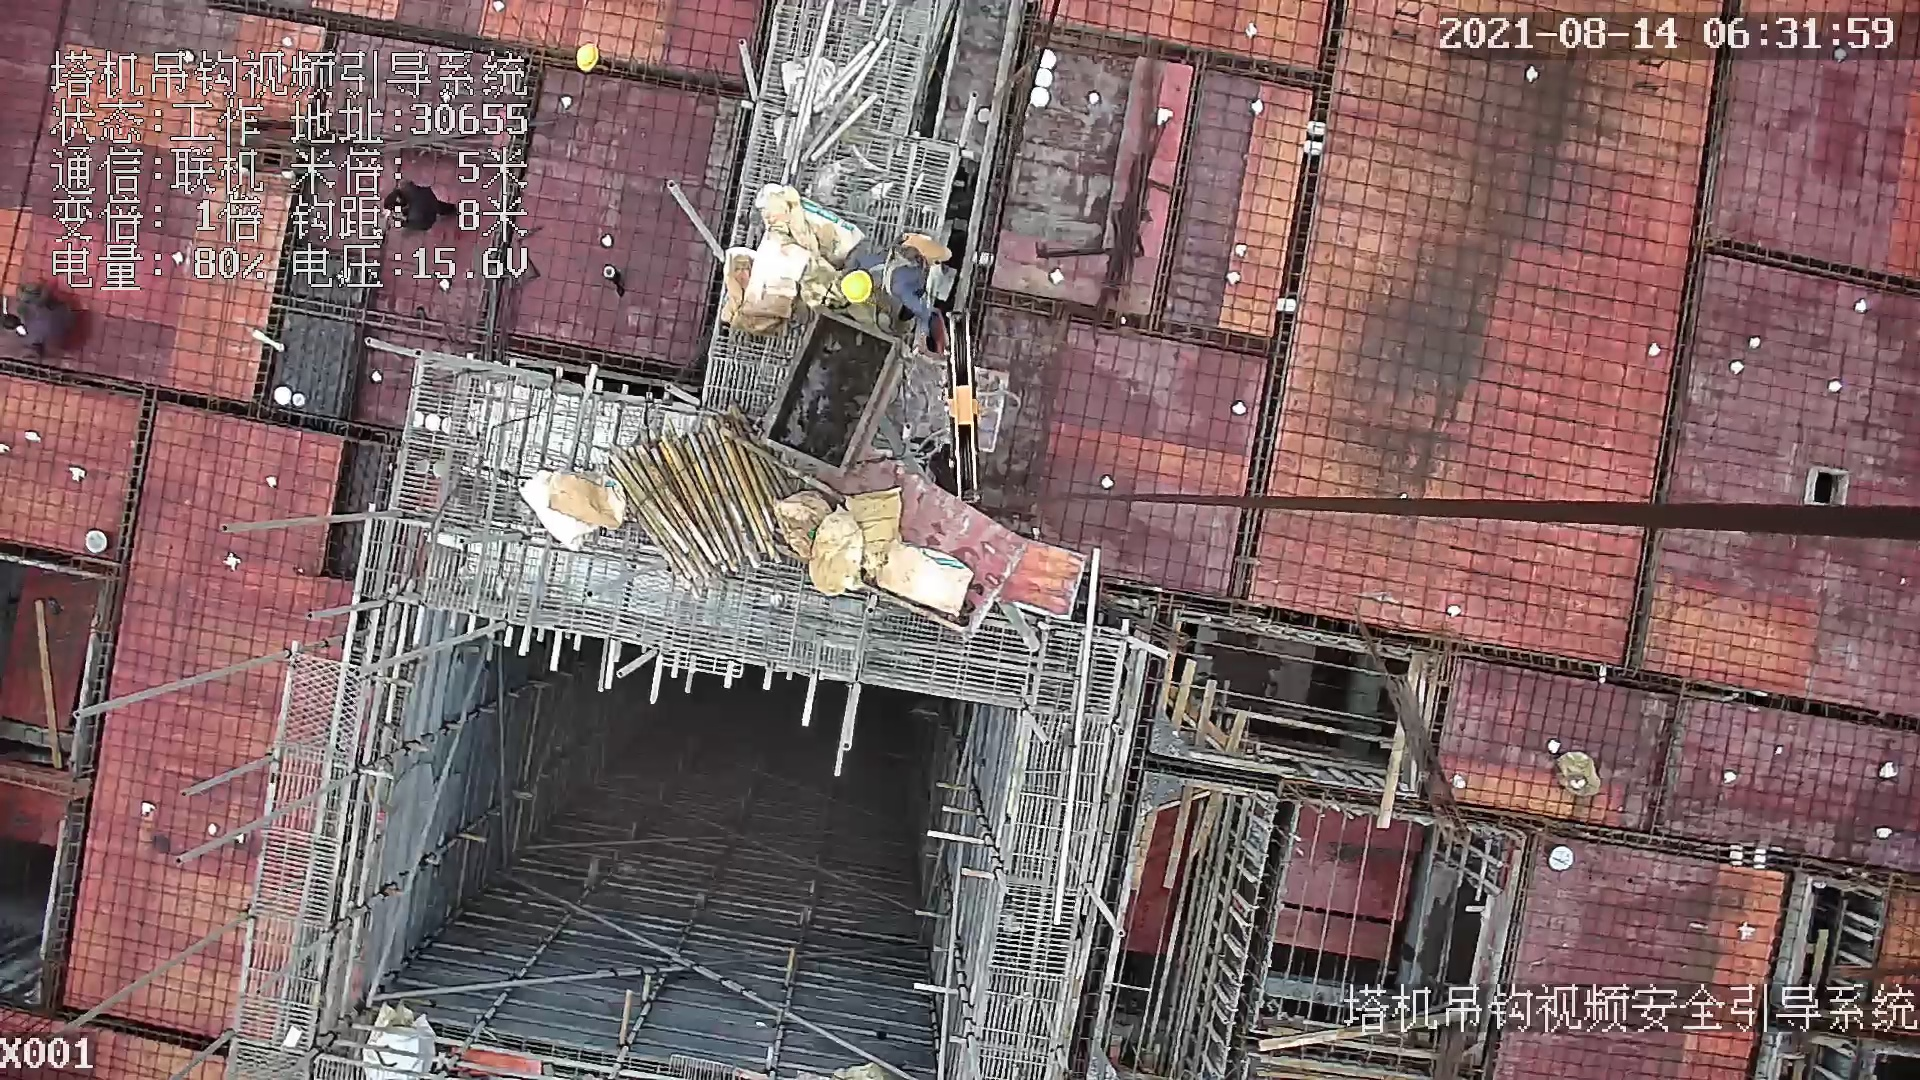helmet: (840, 272, 876, 310), (572, 42, 605, 74)
hook: (946, 308, 983, 510)
hopper: (776, 312, 897, 477)
person: (842, 237, 958, 330), (6, 277, 78, 372), (386, 173, 459, 240)
scaffold: (603, 426, 782, 591)
